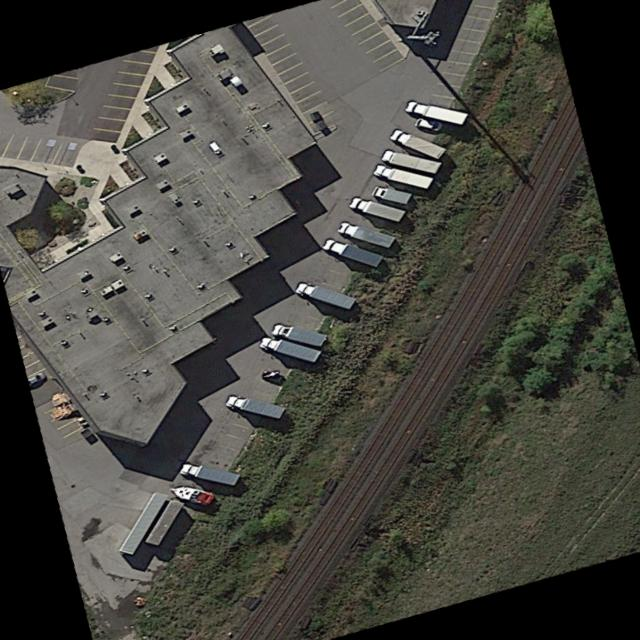large-vehicle: (319, 237, 382, 266), (387, 128, 445, 159), (294, 281, 355, 309), (257, 335, 320, 362), (334, 220, 395, 247), (403, 99, 468, 124), (346, 195, 404, 221), (223, 394, 284, 418), (371, 164, 432, 188), (177, 462, 239, 485), (379, 149, 440, 172), (269, 322, 326, 346), (370, 185, 410, 203)
ship: (164, 483, 215, 506)
small-vehicle: (411, 116, 444, 132), (258, 368, 285, 386)
